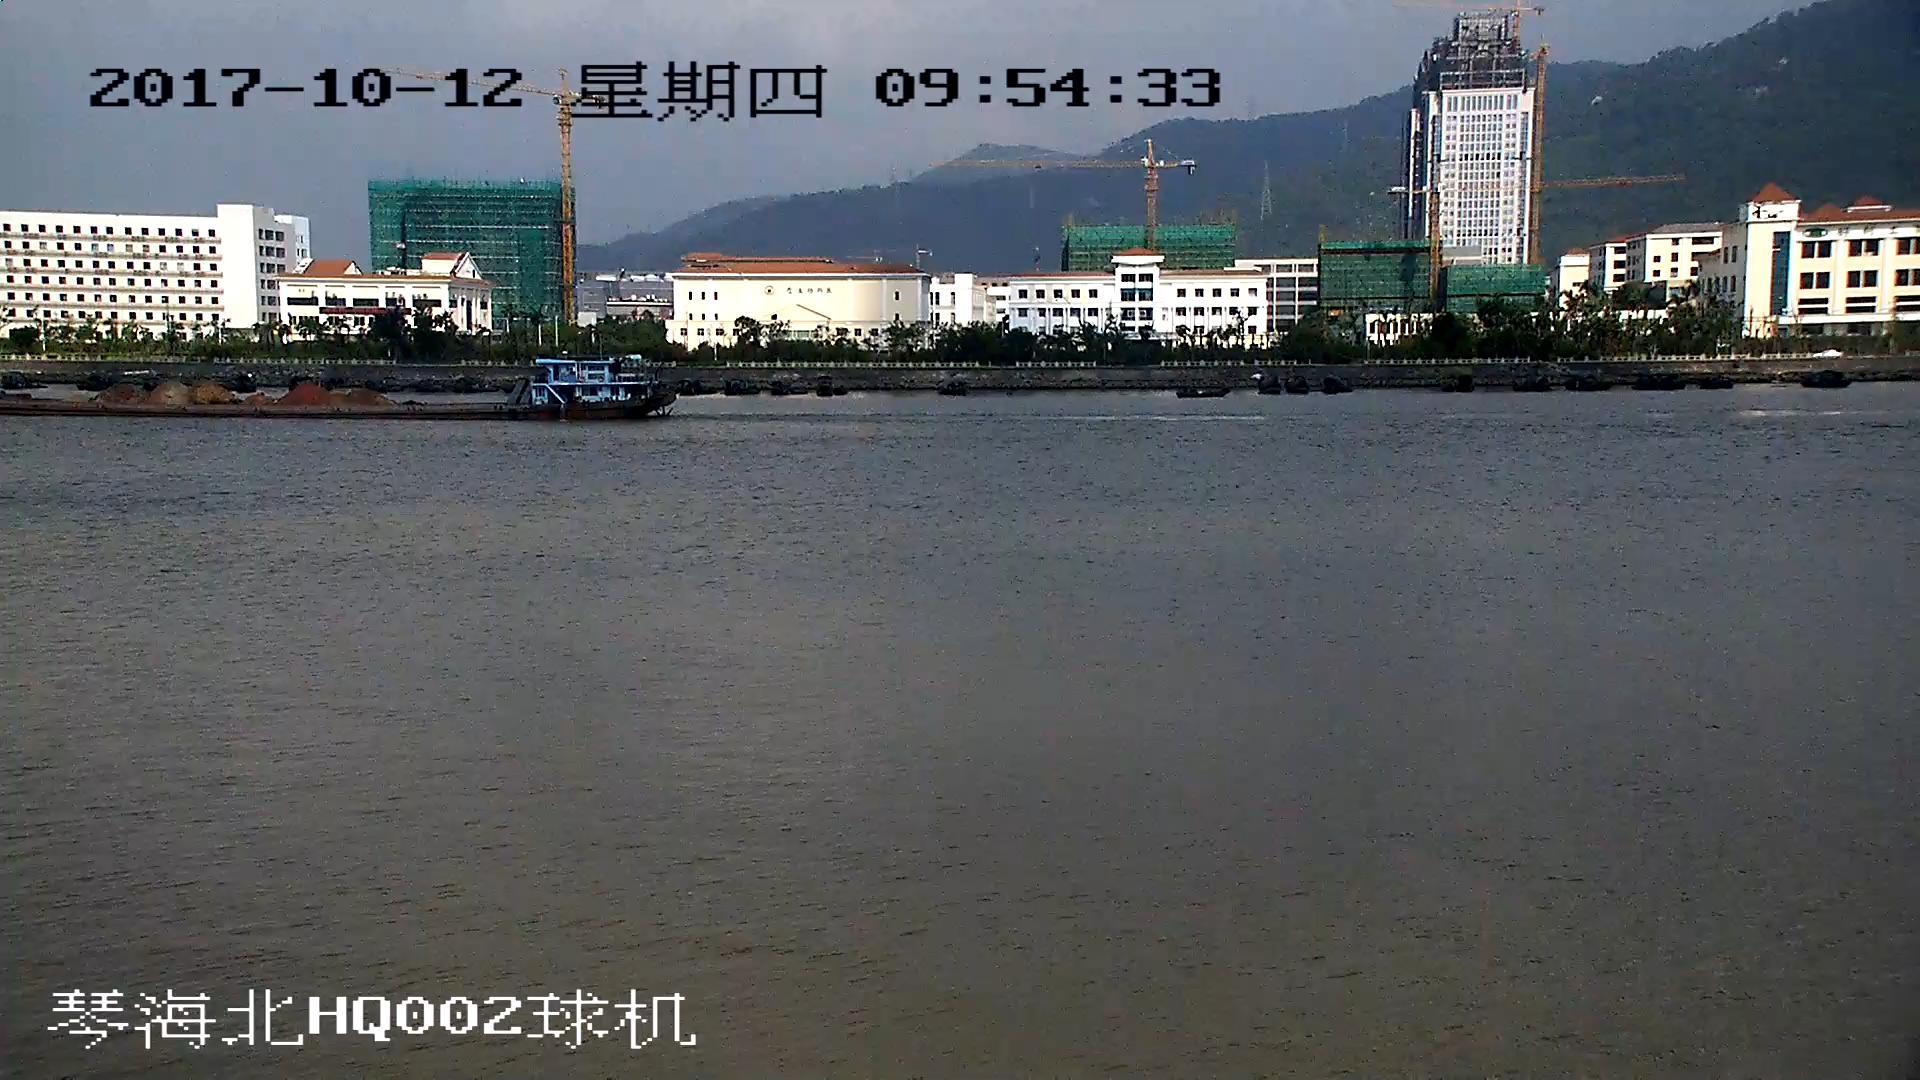ore carrier: (1, 357, 676, 422)
